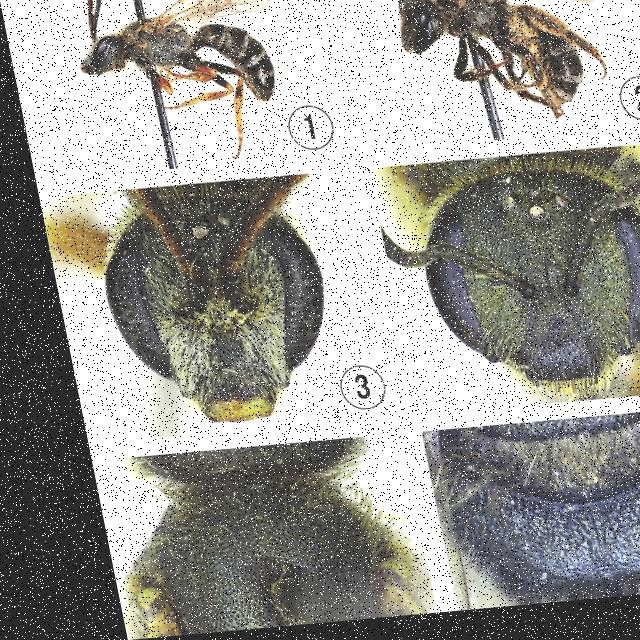Seladonia: (354, 0, 618, 140), (54, 0, 303, 140)
